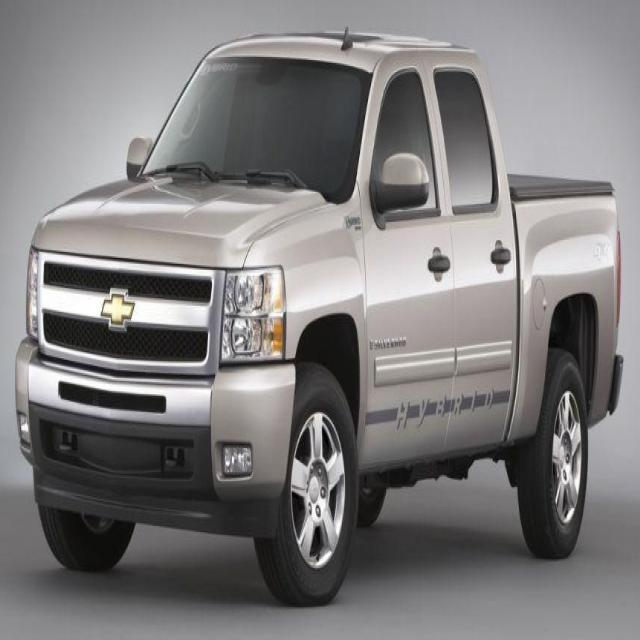CMT: (14, 29, 616, 603)
